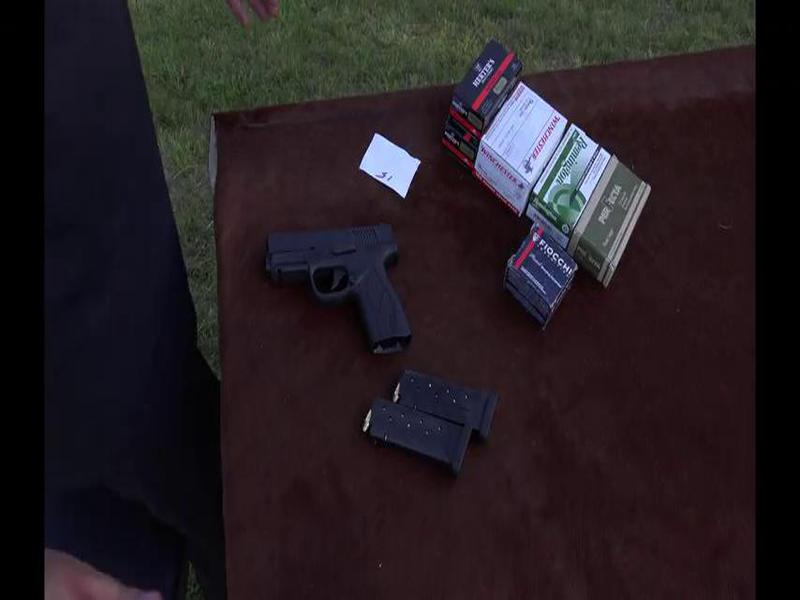Pistola: (261, 219, 446, 364)
